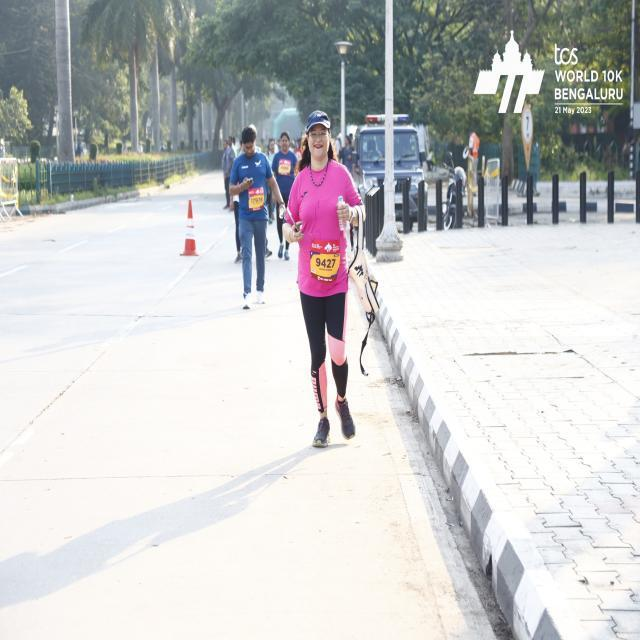dorsal: (308, 236, 342, 291)
